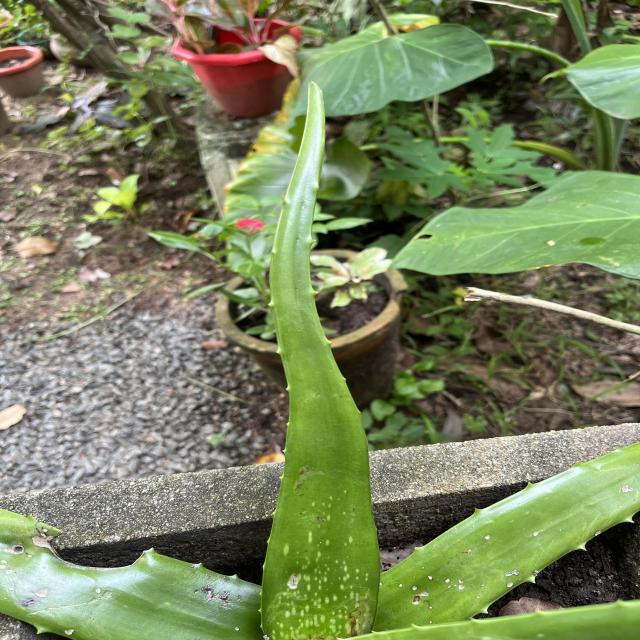Aloe vera: (257, 78, 388, 638)
